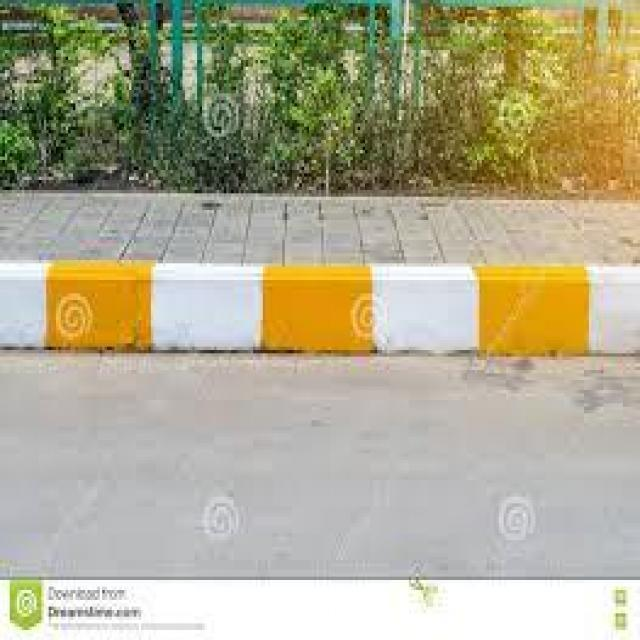curb: (1, 269, 640, 352)
